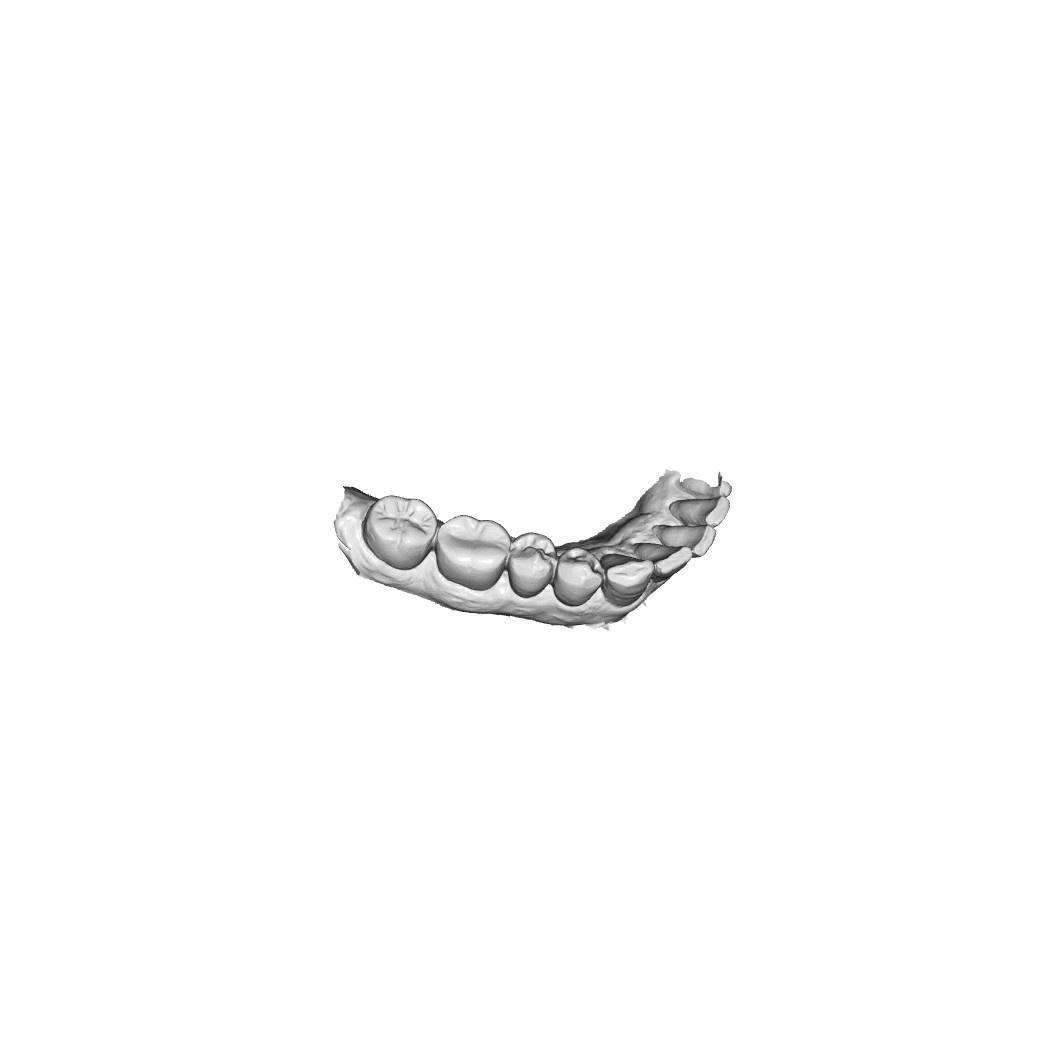canine: (602, 551, 649, 609)
incisor: (677, 491, 732, 528), (642, 542, 689, 579), (667, 525, 712, 556)
molar: (438, 513, 507, 583), (362, 495, 434, 561)
premolar: (507, 531, 553, 593), (555, 549, 597, 604)
